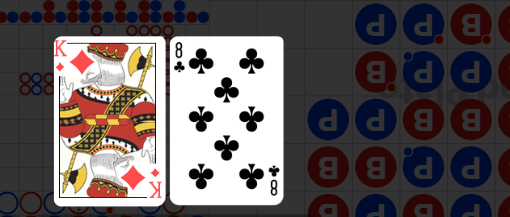8C: (266, 163, 281, 197)
KD: (53, 38, 67, 73)
